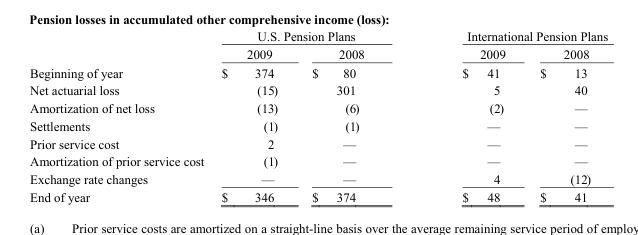table: (29, 28, 607, 204)
table column: (29, 28, 212, 204), (294, 28, 412, 204), (412, 28, 522, 204), (522, 28, 607, 204), (212, 28, 294, 204)
table column header: (29, 28, 607, 63)
table row: (29, 44, 607, 63), (29, 63, 607, 81), (29, 98, 607, 116), (29, 116, 607, 134), (29, 134, 607, 152), (29, 169, 607, 187), (29, 81, 607, 98), (29, 152, 607, 169), (29, 187, 607, 204), (29, 28, 607, 44)
table spanning cell: (212, 28, 412, 44), (412, 28, 607, 44)
